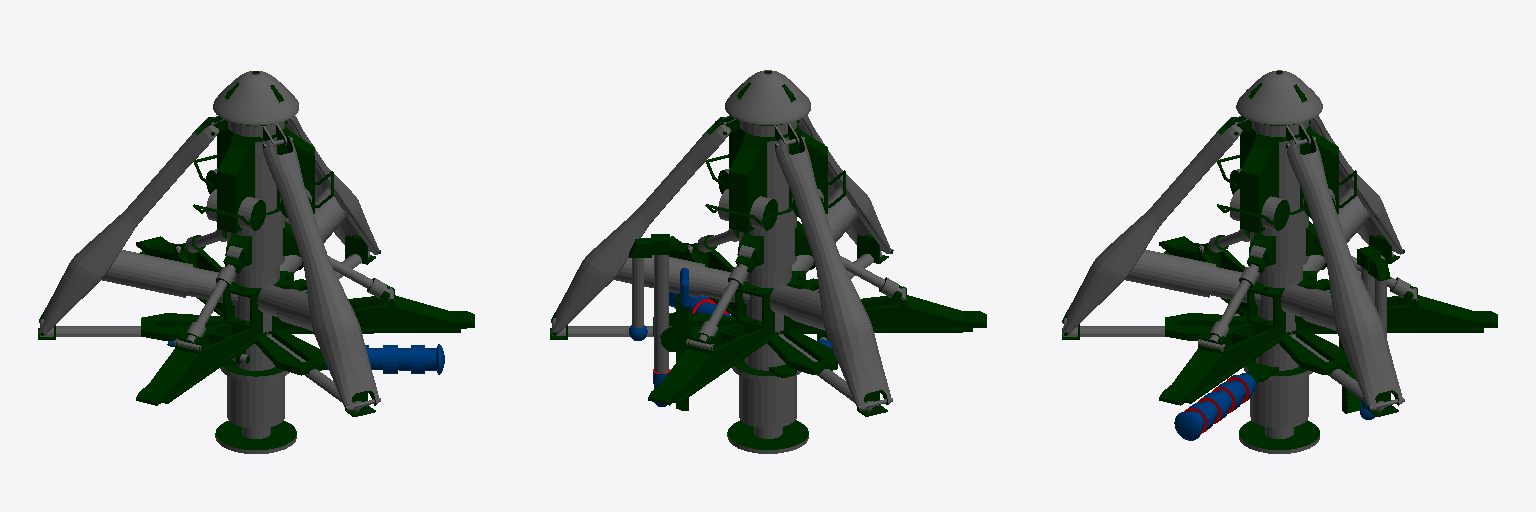
File: Probe.obj
The picture shows the model from 3 angles: view 1: azimuth 30°, elevation 25°; view 2: azimuth 150°, elevation 25°; view 3: azimuth 270°, elevation 25°; orthographic projection.
Visible parts, largest first — view 1: Mesh.002, Mesh, Mesh.001; view 2: Mesh.002, Mesh, Mesh.001; view 3: Mesh.002, Mesh, Mesh.001.
Boxes of the visible parts, x1=… form: Mesh.002: x1=39, y1=71, x2=394, y2=453; Mesh: x1=38, y1=71, x2=474, y2=449; Mesh.001: x1=167, y1=341, x2=444, y2=374; Mesh.002: x1=551, y1=70, x2=906, y2=453; Mesh: x1=550, y1=71, x2=986, y2=449; Mesh.001: x1=629, y1=268, x2=831, y2=406; Mesh.002: x1=1062, y1=70, x2=1417, y2=453; Mesh: x1=1062, y1=71, x2=1497, y2=449; Mesh.001: x1=1174, y1=373, x2=1375, y2=440.
Size of the model in its own units: 0.6856 by 0.7049 by 0.7604.